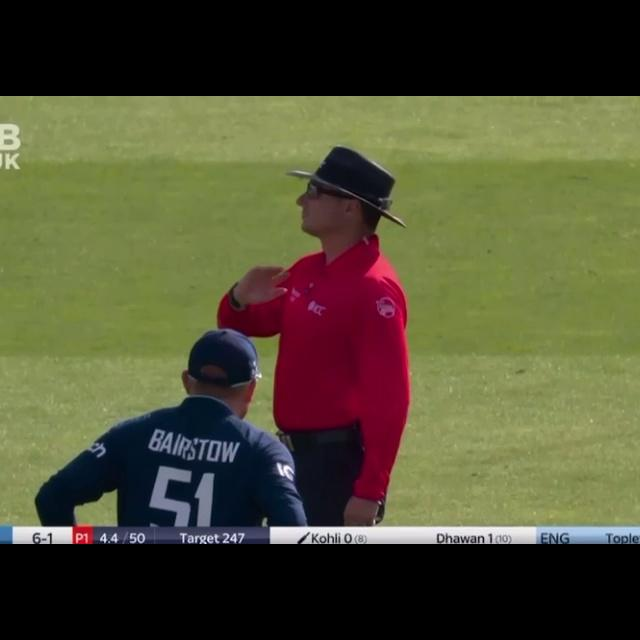umpire: (209, 134, 433, 525), (230, 137, 235, 138)
